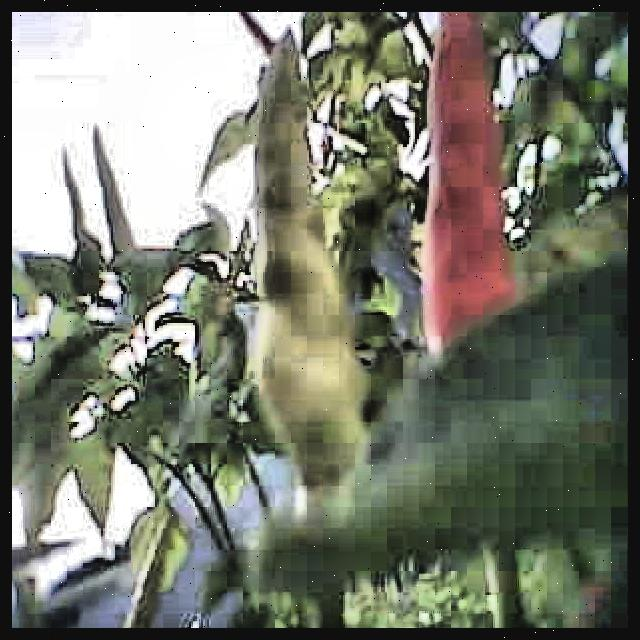Cabai: (434, 12, 512, 326)
